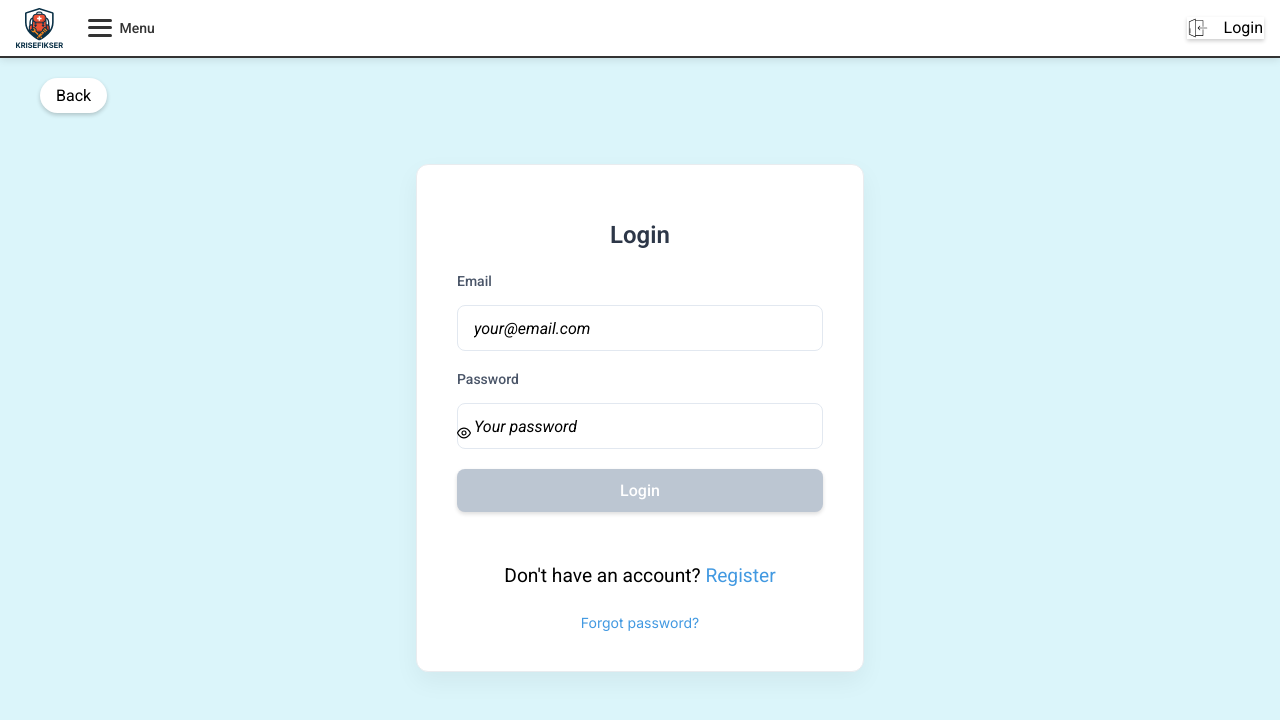
Login Flow › Regular User Login › should show error for non-existent user
In the field with id "email": (640, 328) [457,305,823,351], type "nonexistent@example.com"
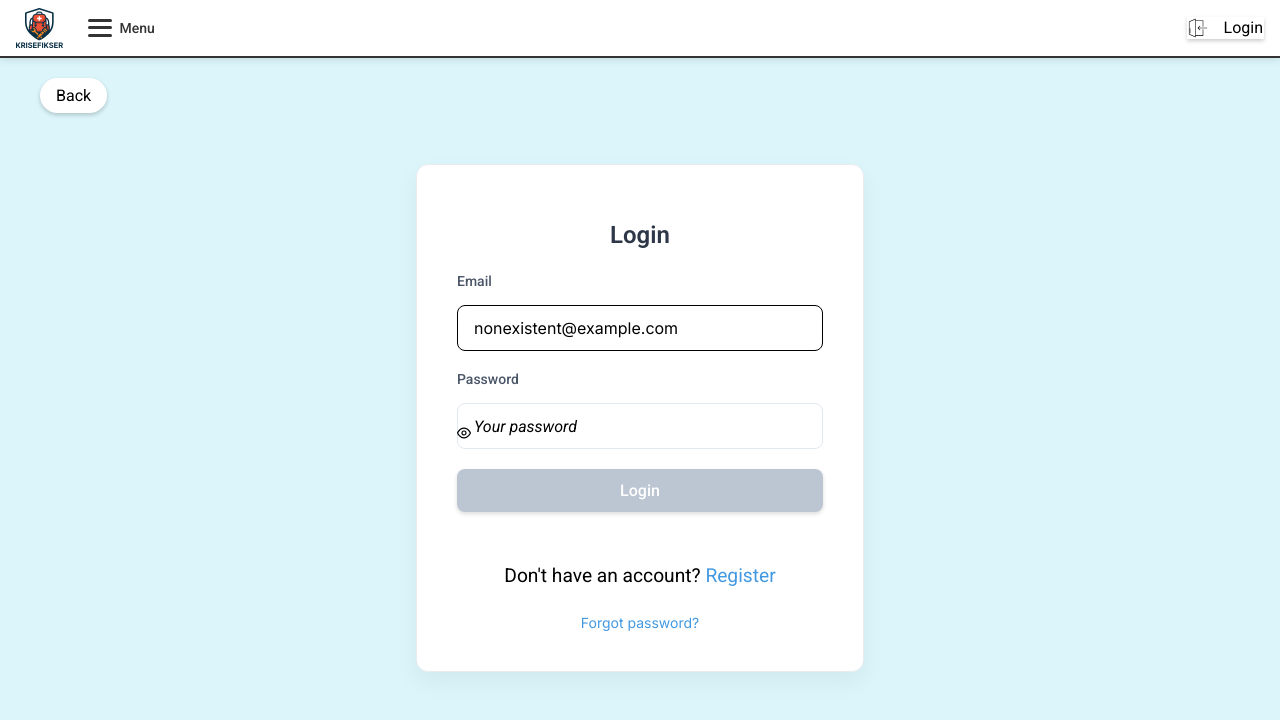
In the password field labelled "Password": (640, 426) [457,403,823,449], type "anypassword"
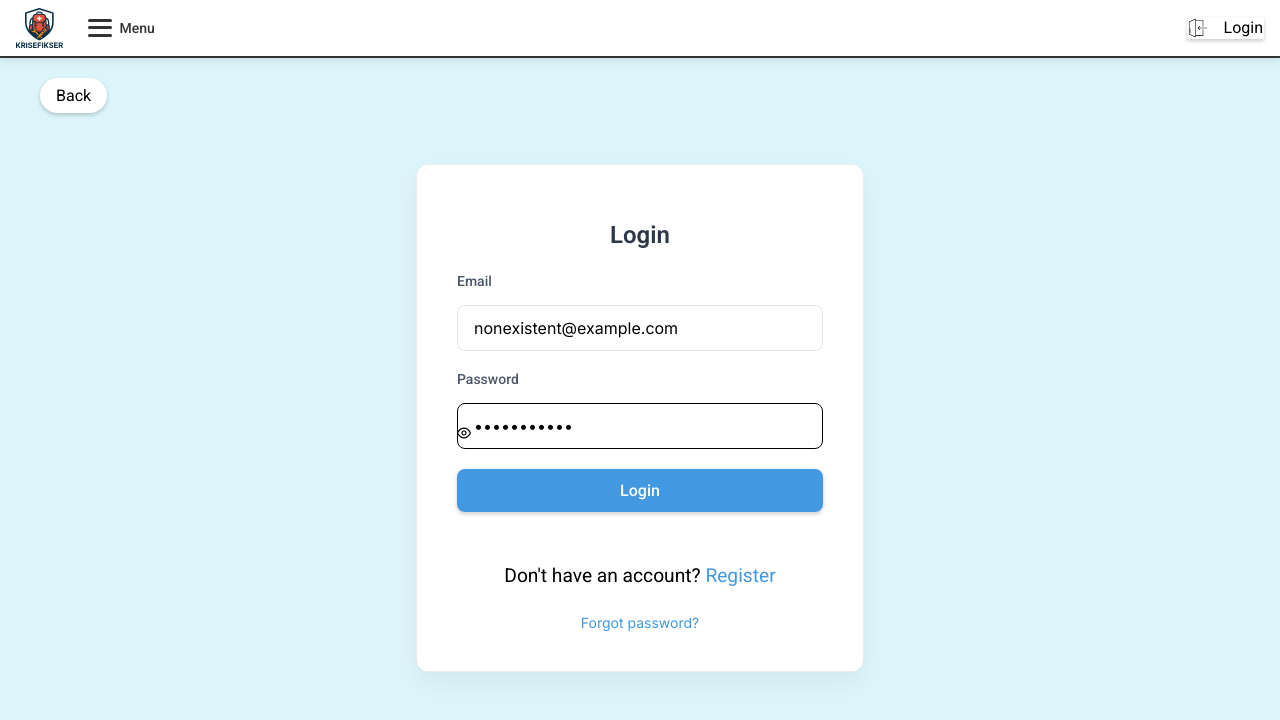
Click the submit button: (640, 491) [457,469,823,512]
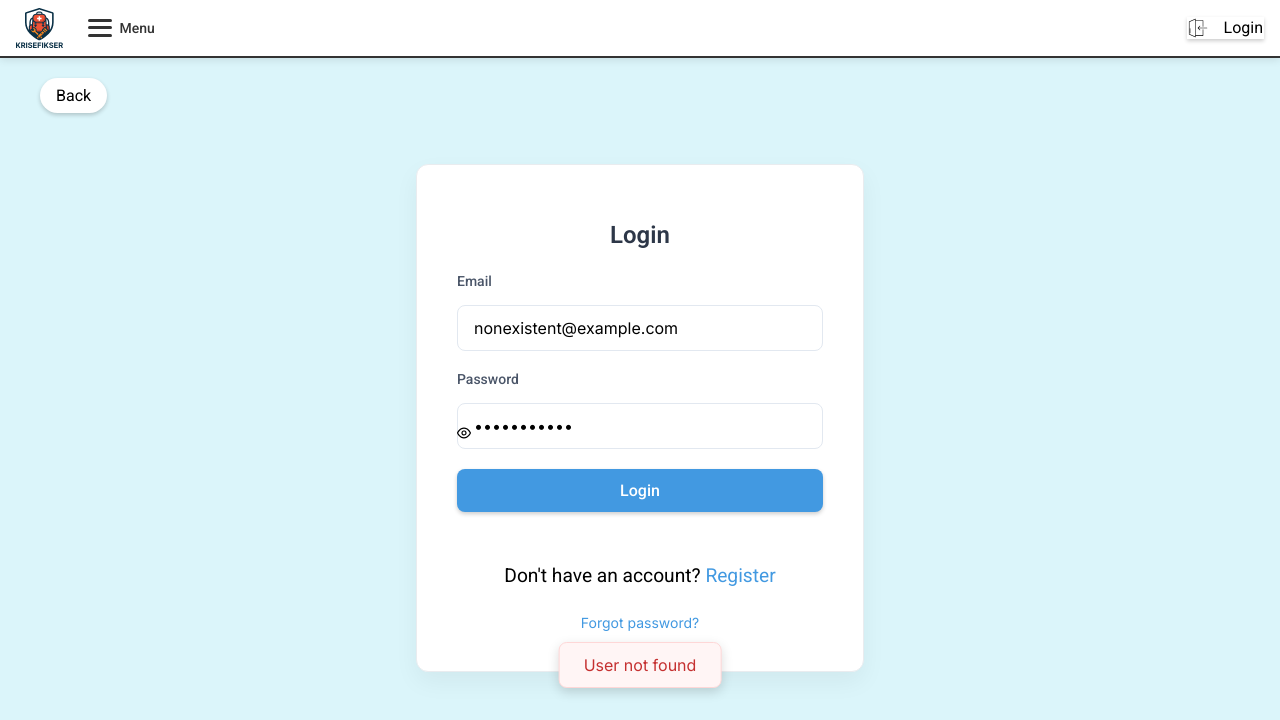
Check: the text with class "error" reads "User not found", box [584,655,697,675]
